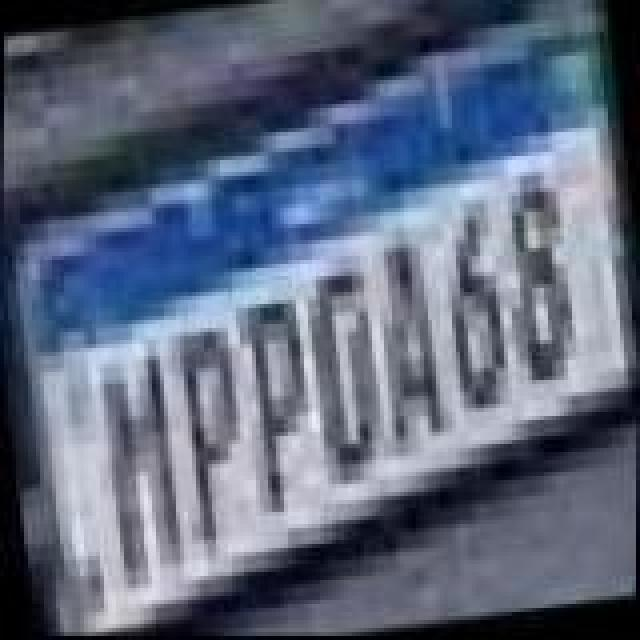6: (422, 192, 522, 424)
8: (484, 166, 588, 398)
A: (360, 228, 456, 464)
D: (302, 256, 402, 488)
M: (88, 340, 196, 592)
P: (164, 314, 264, 558), (228, 288, 328, 520)
